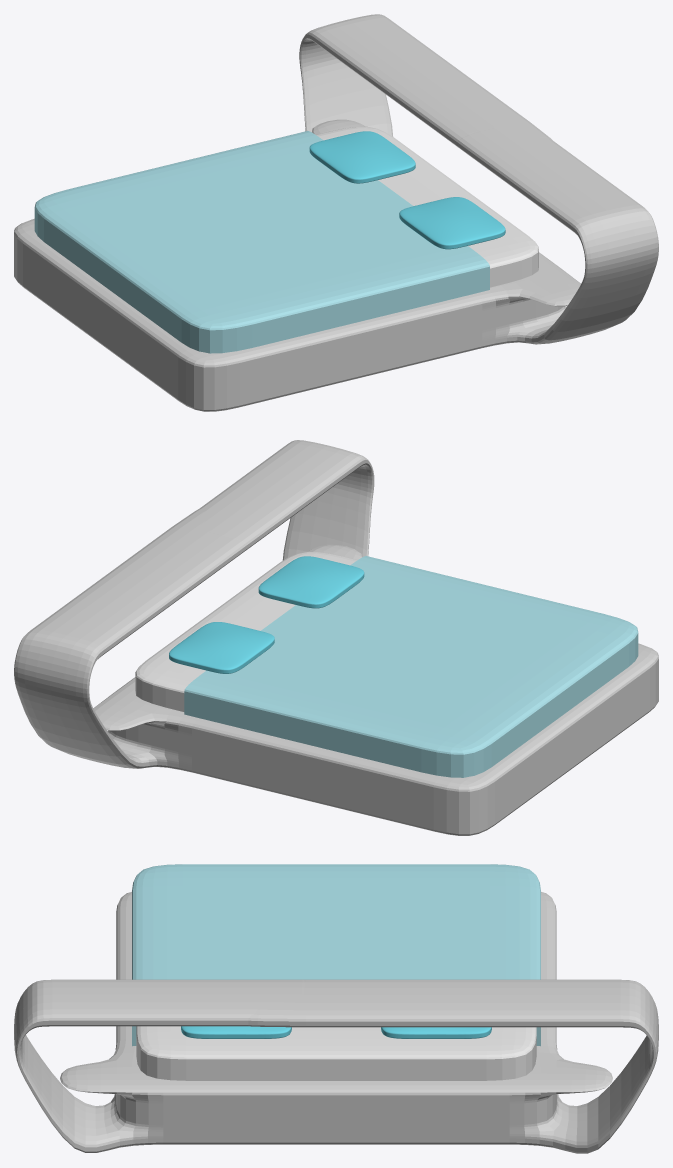
File: lit.fbx
3 views of the same model, one above another, from view 1: azimuth 30°, elevation 25°; view 2: azimuth 150°, elevation 25°; view 3: azimuth 270°, elevation 25° (orthographic). The views are drawn at different scales.
Visible parts, largest first — view 1: Plane.001, Plane.002, Plane, Plane.003, Plane.004; view 2: Plane.001, Plane.002, Plane, Plane.004, Plane.003; view 3: Plane.001, Plane.002, Plane, Plane.004, Plane.003.
Part boxes in pixels (x1,y1,x2,y2): Plane.001: (14,14,658,411); Plane.002: (34,131,489,353); Plane: (316,126,538,287); Plane.003: (309,131,415,183); Plane.004: (399,197,505,249); Plane.001: (14,440,658,835); Plane.002: (184,556,638,777); Plane: (135,552,357,711); Plane.004: (258,556,364,608); Plane.003: (169,622,274,673); Plane.001: (14,892,658,1153); Plane.002: (132,864,540,1046); Plane: (136,1026,536,1080); Plane.004: (181,1026,291,1038); Plane.003: (381,1027,491,1038).
Size of the model in its own units: 241 by 77.01 by 290.
